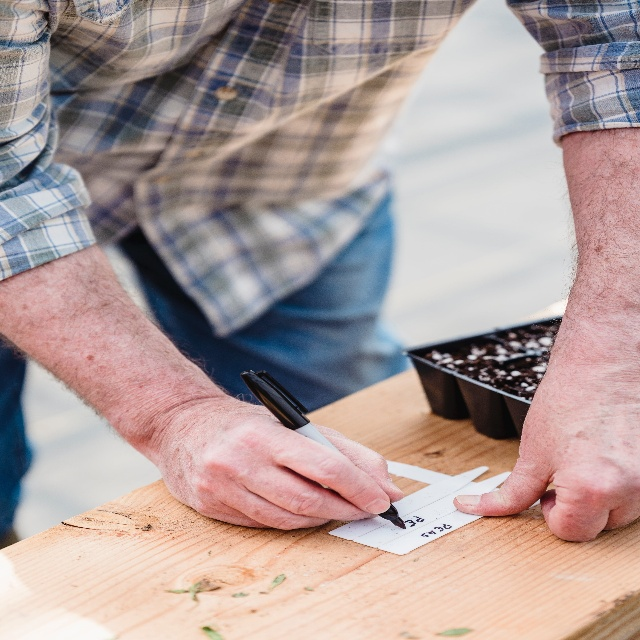Sin_guantes: (158, 405, 404, 544), (452, 350, 640, 518)
